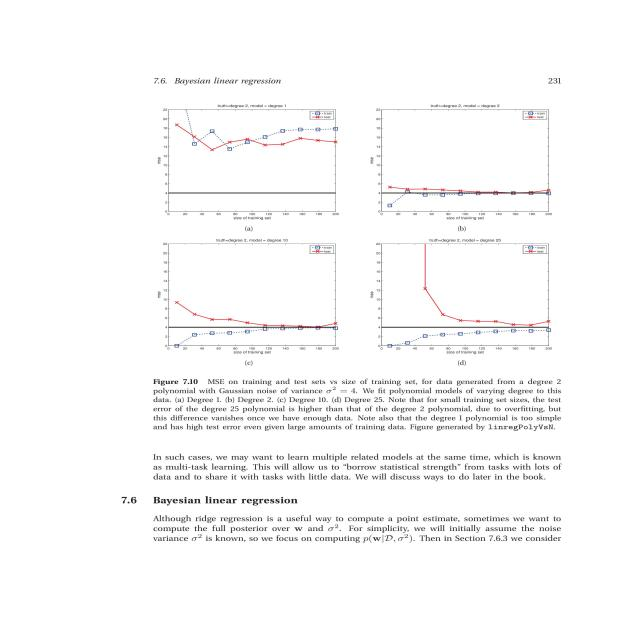diagram: (103, 96, 639, 437)
